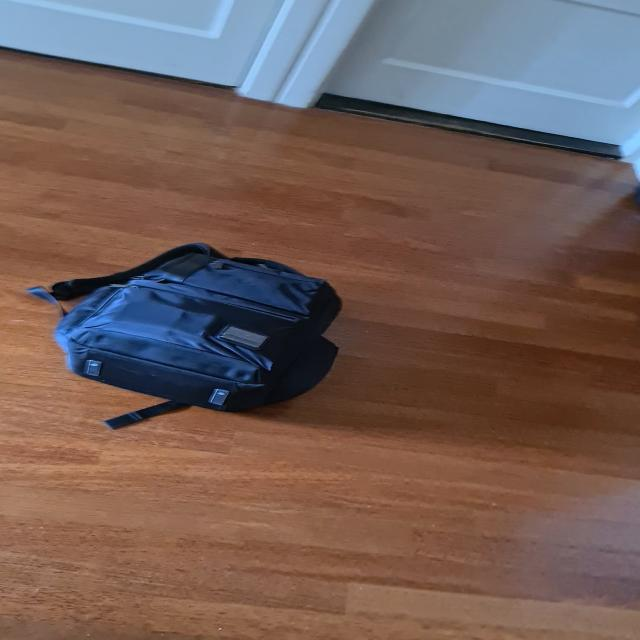backpack: (16, 236, 371, 434)
